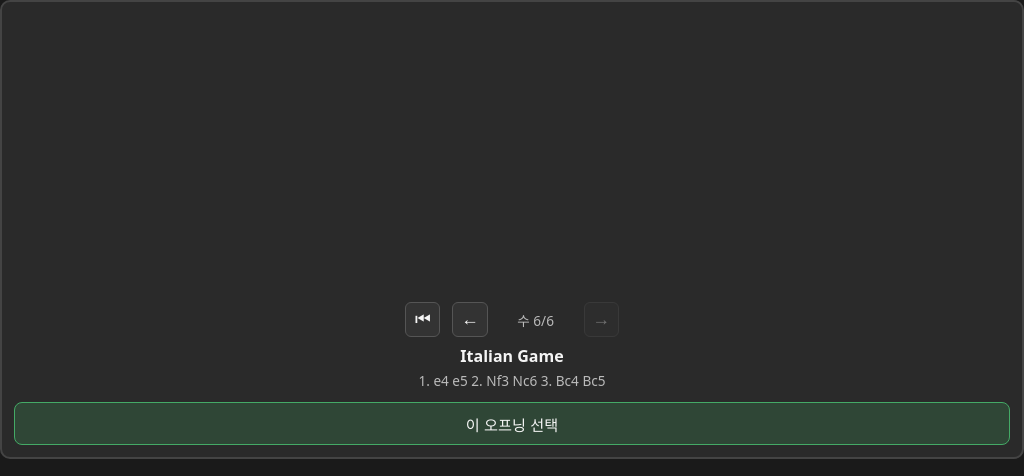
Scenario: OpeningCard › steps through the moves with the arrows
Expected: the text "수 6/6" is shown, x1=517 y1=311 x2=554 y2=330
Expected: the button named "다음 수" is disabled, x1=584 y1=302 x2=619 y2=337
Click the button named "이전 수" at (470, 320), box x1=452 y1=302 x2=488 y2=337
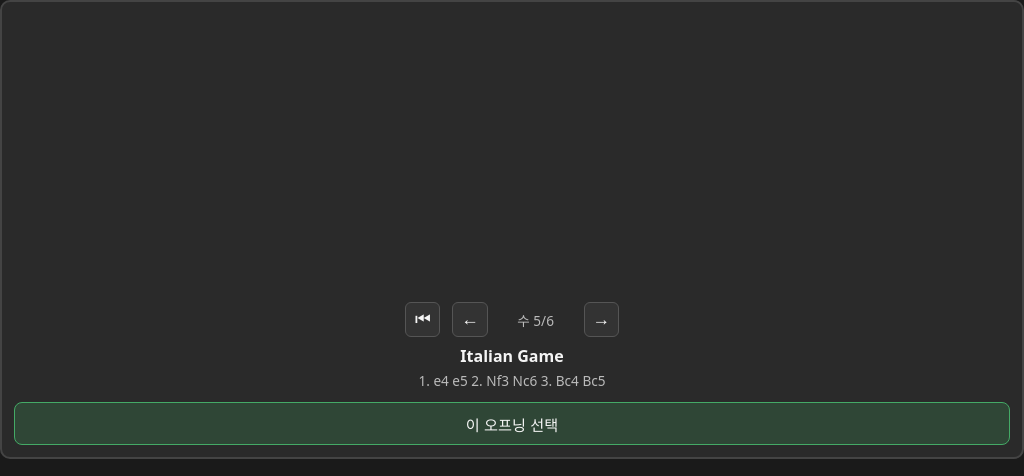
Now the text "수 5/6" is shown, box x1=517 y1=311 x2=554 y2=330
